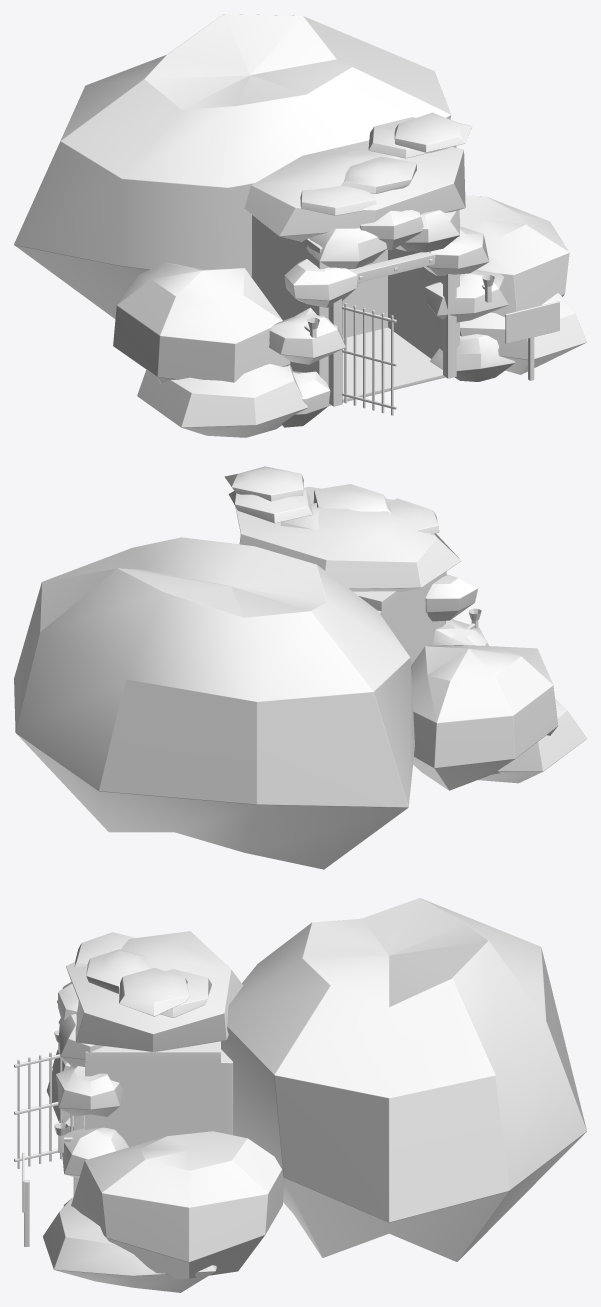
File: cave_mouth.glb
3 renders of one model, top to bottom at view 1: azimuth 30°, elevation 25°; view 2: azimuth 150°, elevation 25°; view 3: azimuth 270°, elevation 25°, orthographic. The views are drawn at different scales.
Parts seen in each view (by area): view 1: CaveMouth; view 2: CaveMouth; view 3: CaveMouth.
Part boxes in pixels (x1,y1,x2,y2): CaveMouth: (14,14,586,437); CaveMouth: (14,466,586,869); CaveMouth: (14,898,586,1292).
Size of the model in its own units: 13.68 by 7.85 by 14.32.
1 material, 1 textured.
